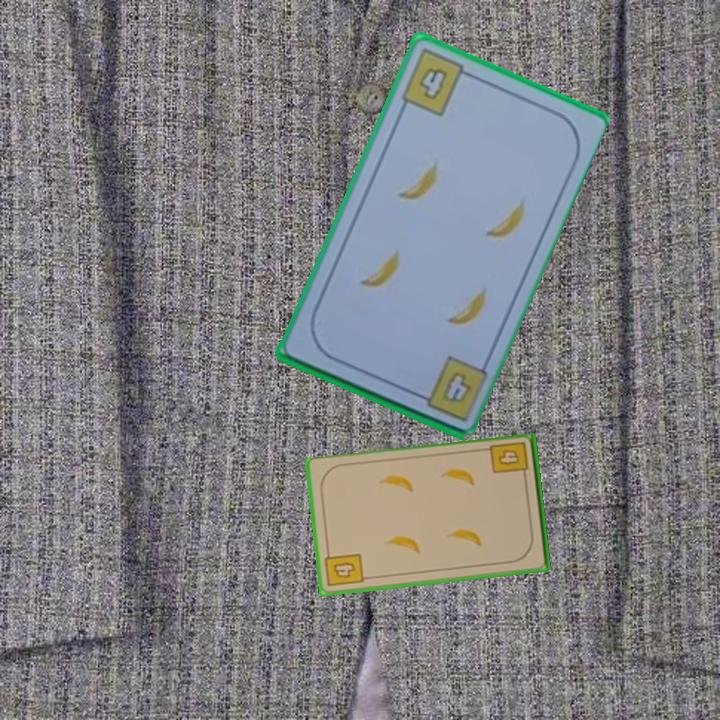4b: (396, 45, 476, 119), (487, 439, 531, 483), (322, 547, 366, 589), (438, 367, 474, 406)
